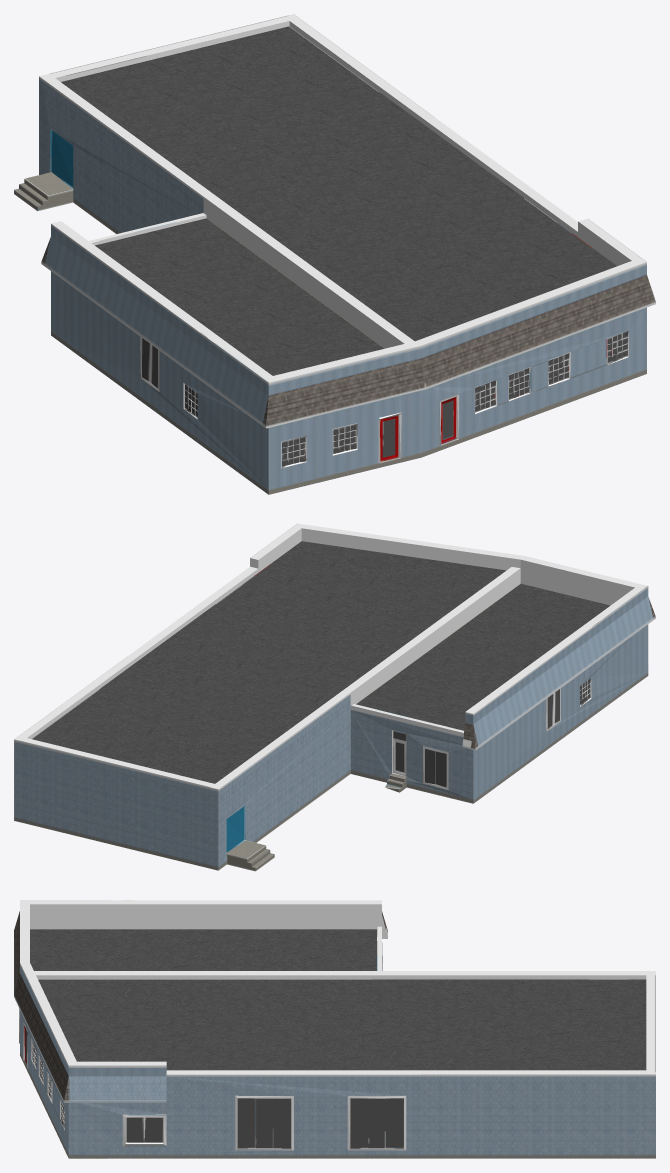
Rendered from Blaisdale Montessori School_Rougemount Campus.fbx.
The picture shows the model from 3 angles, top to bottom: view 1: azimuth 30°, elevation 25°; view 2: azimuth 150°, elevation 25°; view 3: azimuth 270°, elevation 25°; orthographic projection. The views are drawn at different scales.
Visible parts, largest first — view 1: Blaisdale_Montessori_School_Rougemount_Campus_LOD2; view 2: Blaisdale_Montessori_School_Rougemount_Campus_LOD2; view 3: Blaisdale_Montessori_School_Rougemount_Campus_LOD2.
Part boxes in pixels (bbox=[...]): Blaisdale_Montessori_School_Rougemount_Campus_LOD2: bbox=[14, 14, 655, 494]; Blaisdale_Montessori_School_Rougemount_Campus_LOD2: bbox=[14, 523, 655, 871]; Blaisdale_Montessori_School_Rougemount_Campus_LOD2: bbox=[14, 900, 655, 1158].
Bounding box in the file's own units: 2060 × 525 × 3280.
Materials: 1 (1 with a texture image).
